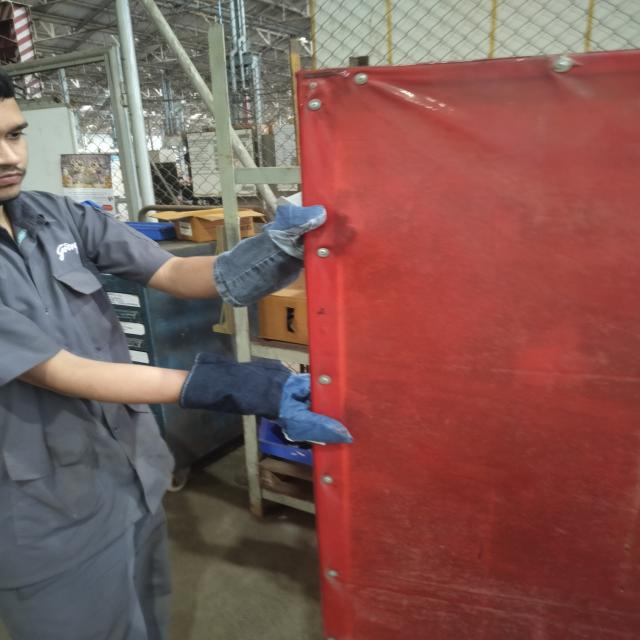Gloves-Detection: (190, 346, 352, 449), (213, 204, 324, 304)
